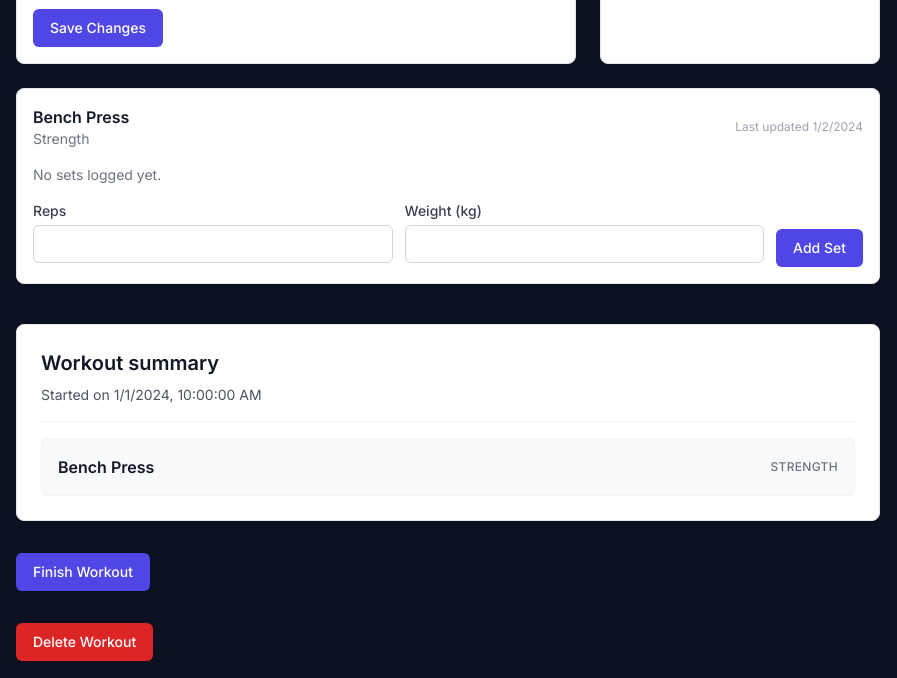
Test: WorkoutSessionPage › completes the workout and navigates to dashboard
The width and height of the screenshot is (897, 678).
(page scrolled)
Click the button "Finish Workout": [83, 572] box [16,553,150,591]
(page scrolled)
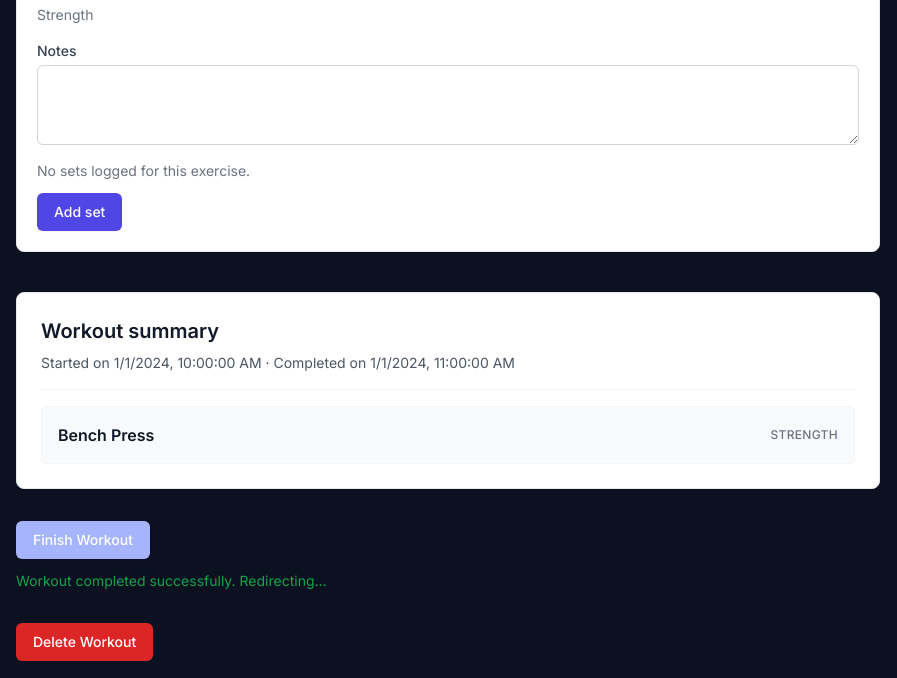
Expected: the text "Workout completed successfully. Redirecting…" is shown, [16,572,327,589]
